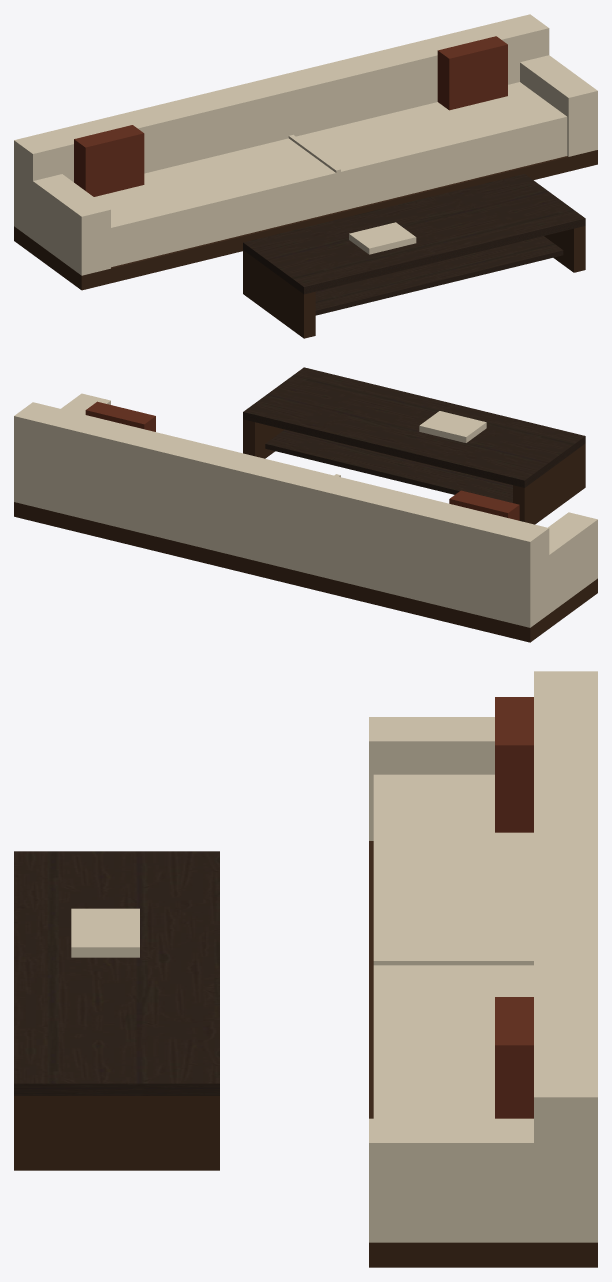
Rendered from sofa.glb.
3 views of the same model, one above another, from view 1: azimuth 30°, elevation 25°; view 2: azimuth 150°, elevation 25°; view 3: azimuth 270°, elevation 25° (orthographic). The views are drawn at different scales.
Parts seen in each view (by area): view 1: sofa; view 2: sofa; view 3: sofa.
Boxes of the visible parts, <box> form: sofa: <box>14,14,597,338</box>; sofa: <box>14,367,597,642</box>; sofa: <box>14,671,597,1267</box>.
Size of the model in its own units: 4.4 by 0.86 by 2.55.
4 materials, 1 textured.
